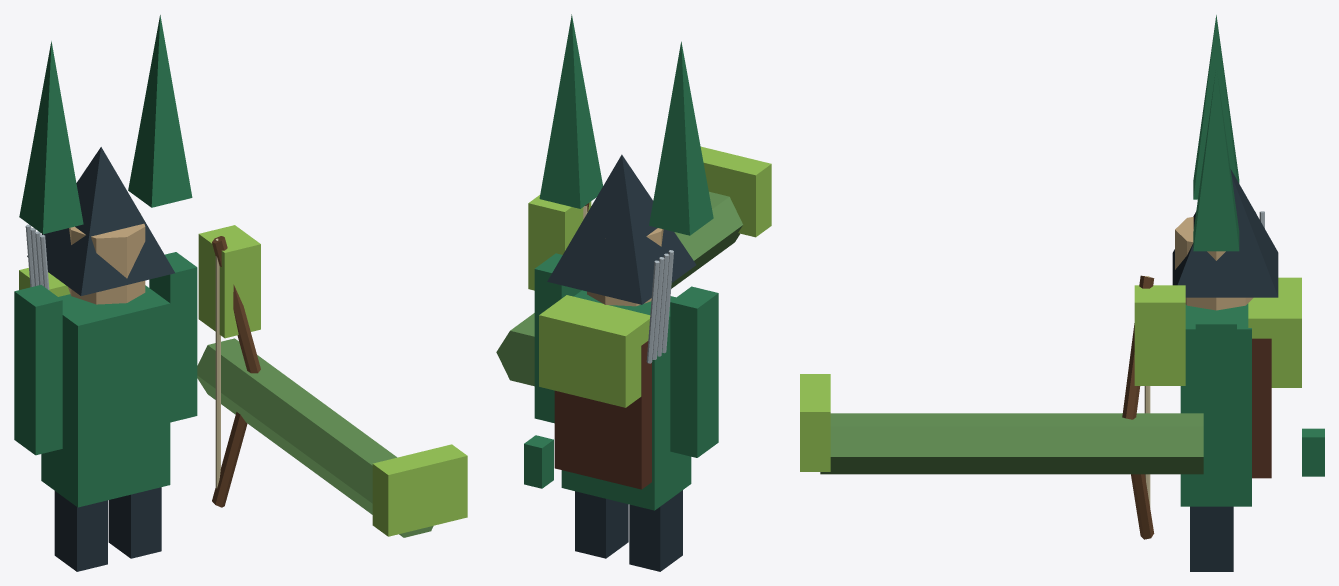
File: gunner.obj
3 views of the same model, side by side, from view 1: azimuth 30°, elevation 25°; view 2: azimuth 150°, elevation 25°; view 3: azimuth 270°, elevation 25° (orthographic). The views are drawn at different scales.
Parts seen in each view (by area): view 1: ranged; view 2: ranged; view 3: ranged.
Boxes of the visible parts, x1,y1,x2,y2 form: ranged: (14, 15, 467, 571); ranged: (496, 14, 771, 571); ranged: (800, 15, 1324, 571).
Size of the model in its own units: 1.01 by 2.21 by 2.06.
